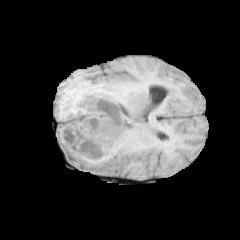glioma: (57, 78, 148, 173)
